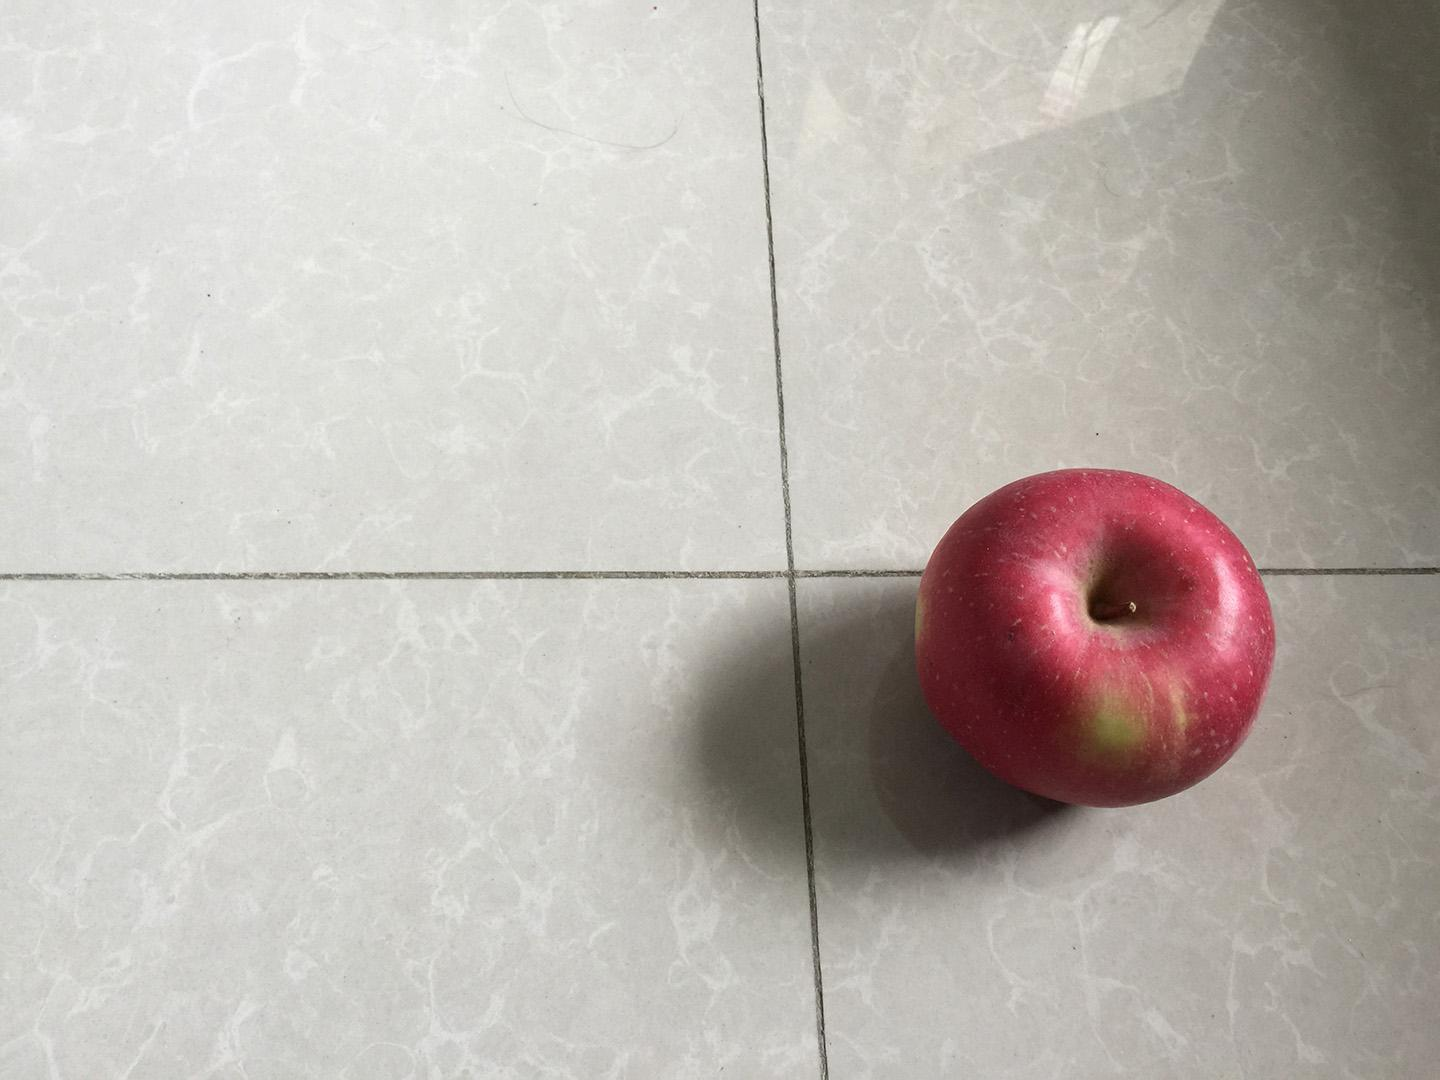apple: (910, 463, 1286, 815)
